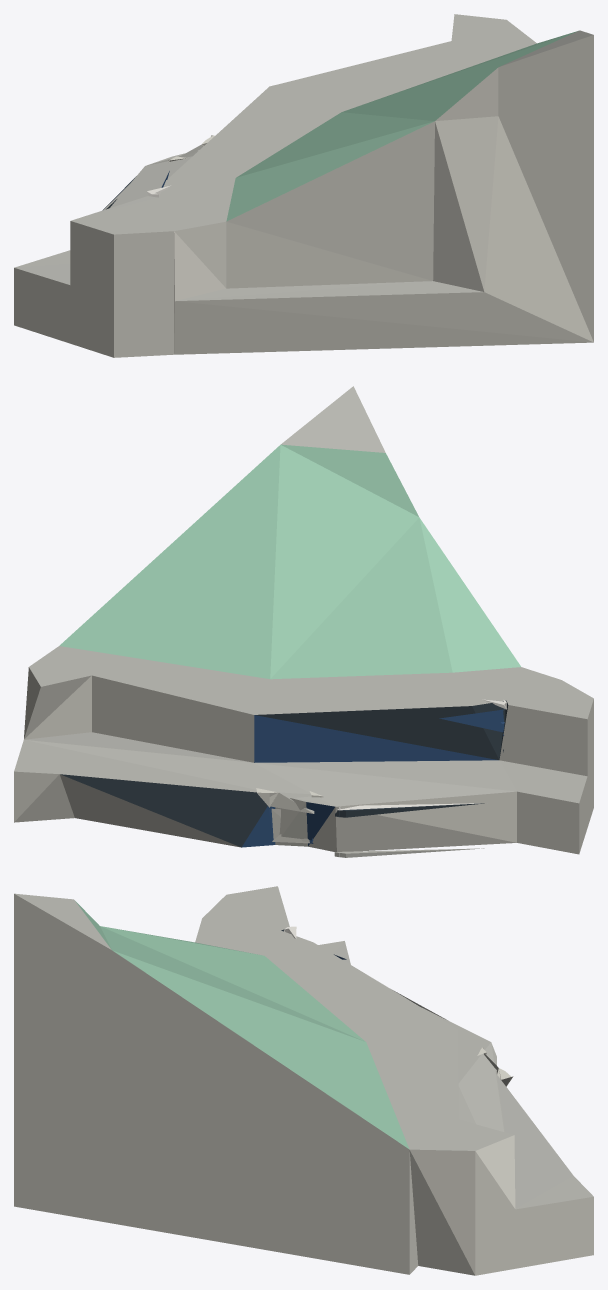
Rendered from tolstraat-160-tempel.lod2.glb.
3 views of the same model, one above another, from view 1: azimuth 30°, elevation 25°; view 2: azimuth 150°, elevation 25°; view 3: azimuth 270°, elevation 25° (orthographic). The views are drawn at different scales.
Visible parts, largest first — view 1: lod2; view 2: lod2; view 3: lod2.
Boxes of the visible parts, <box> form: lod2: <box>14,14,593,357</box>; lod2: <box>14,386,593,857</box>; lod2: <box>14,886,593,1275</box>.
Bounding box in the file's own units: 36.19 × 19.11 × 32.1.
